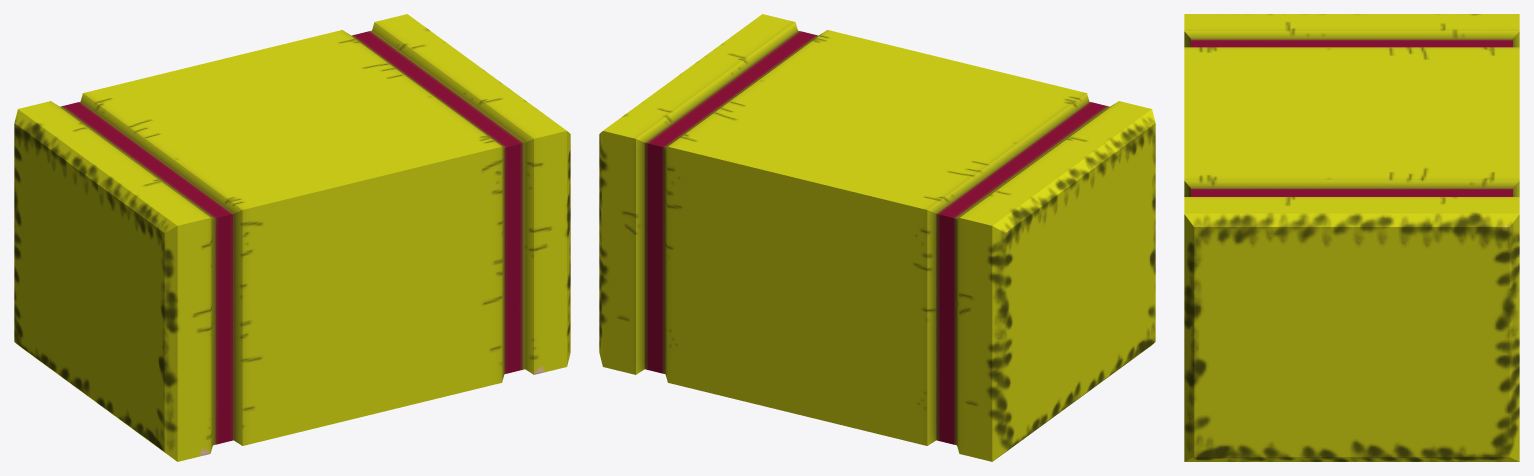
Rendered from Hay_Model.obj.
3 renders of one model, left to right at view 1: azimuth 30°, elevation 25°; view 2: azimuth 150°, elevation 25°; view 3: azimuth 270°, elevation 25°, orthographic. The views are drawn at different scales.
Parts seen in each view (by area): view 1: Hay; view 2: Hay; view 3: Hay.
Part boxes in pixels (box(x1,y1,x2,y2)): Hay: box(14, 14, 570, 461); Hay: box(599, 14, 1155, 461); Hay: box(1184, 14, 1519, 461).
Size of the model in its own units: 319 by 177 by 217.
Materials: 1 (1 with a texture image).
